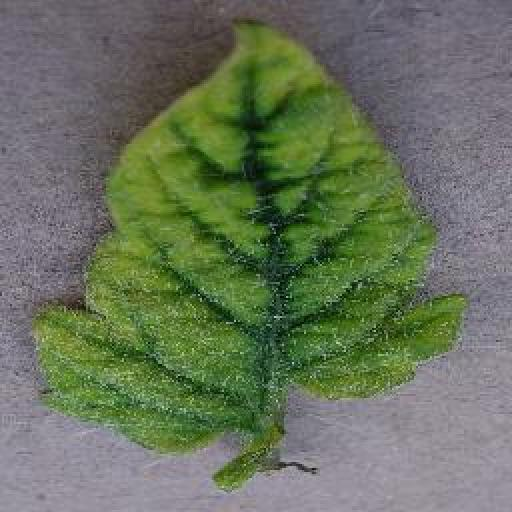Yellow Leaf Curl Virus: (26, 17, 470, 456)
